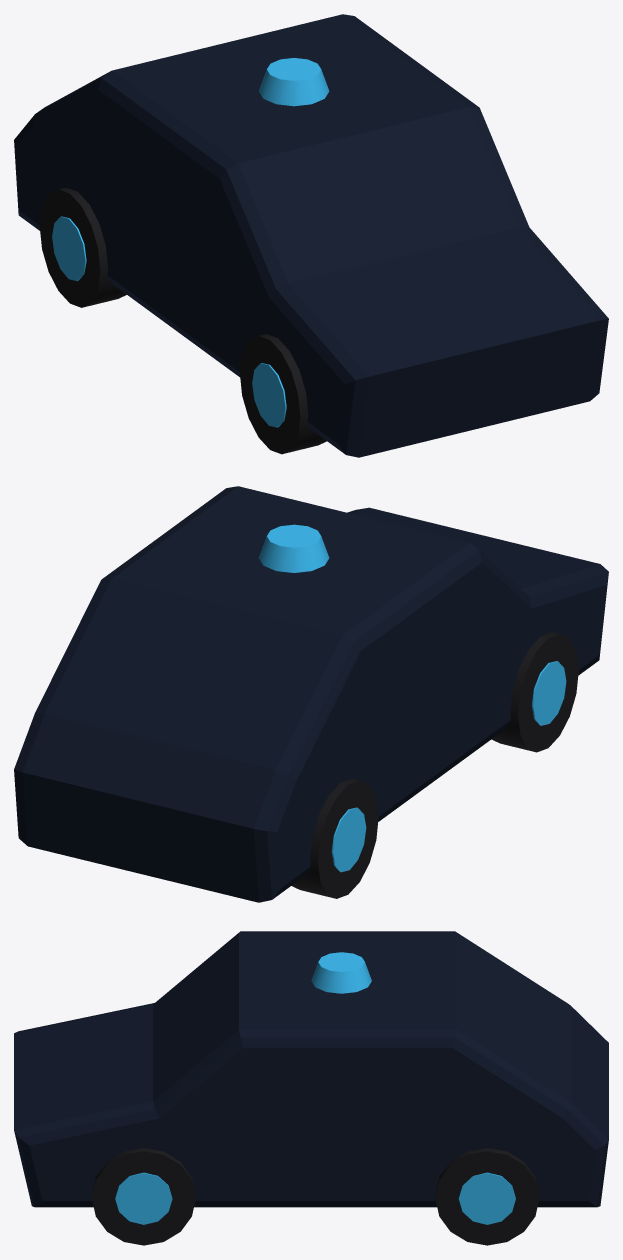
The model's file is nav_vehicle.glb.
3 renders of one model, top to bottom at view 1: azimuth 30°, elevation 25°; view 2: azimuth 150°, elevation 25°; view 3: azimuth 270°, elevation 25°, orthographic. The views are drawn at different scales.
Parts seen in each view (by area): view 1: NavVehicle; view 2: NavVehicle; view 3: NavVehicle.
Boxes of the visible parts, bbox=[...] form: NavVehicle: bbox=[14, 14, 608, 457]; NavVehicle: bbox=[14, 486, 608, 902]; NavVehicle: bbox=[14, 931, 608, 1245].
Bounding box in the file's own units: 2.14 × 1.91 × 4.57.
